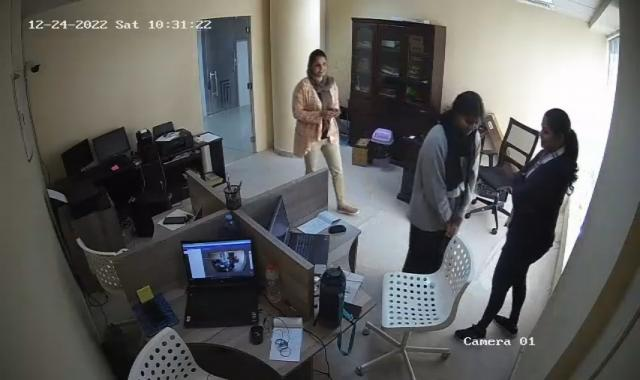no_hairnet: (539, 108, 575, 154), (450, 90, 484, 134), (307, 48, 332, 78)
